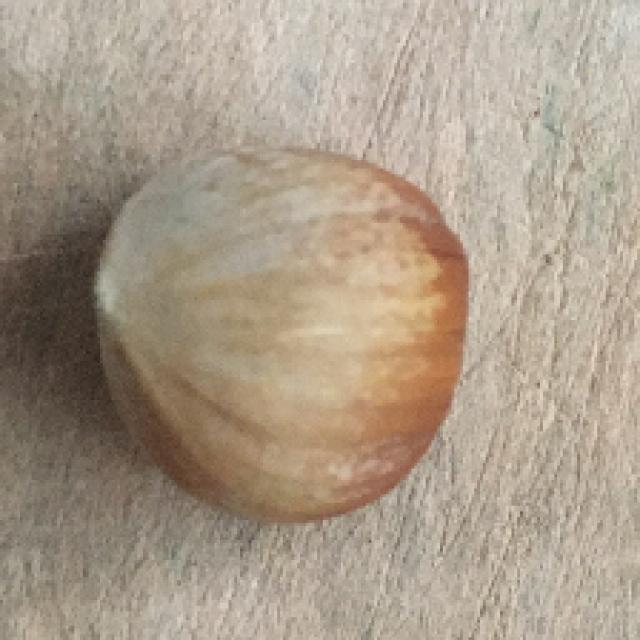qualityHazelnut: (94, 143, 472, 528)
